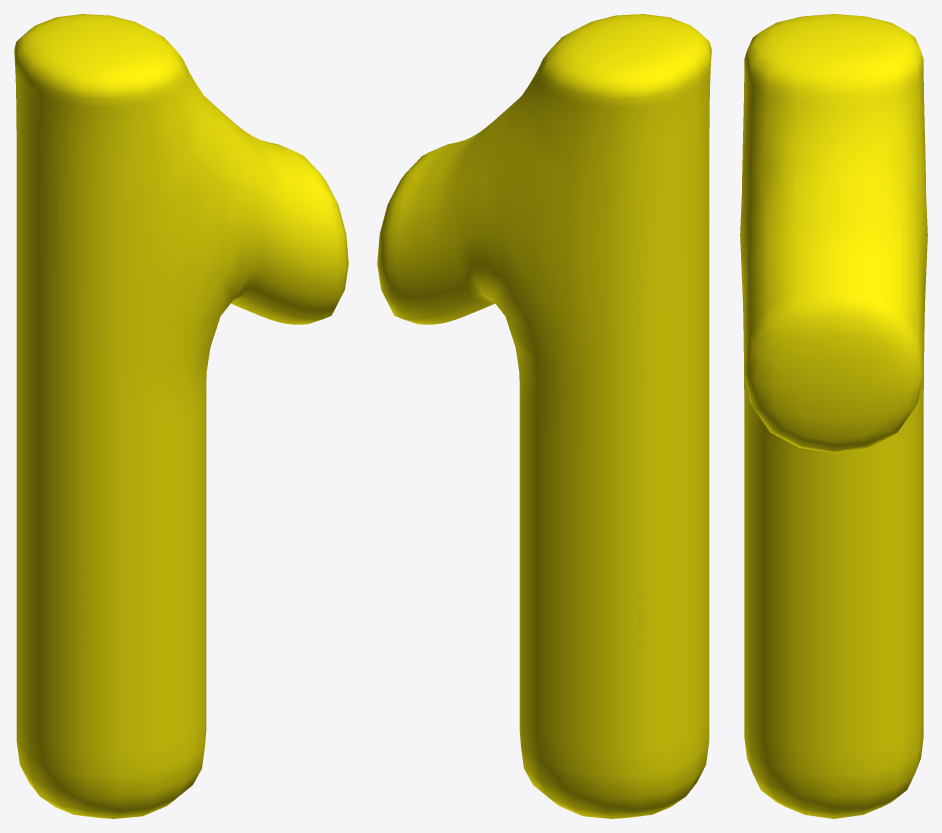
File: numero-1.glb
The picture shows the model from 3 angles, left to right: view 1: azimuth 30°, elevation 25°; view 2: azimuth 150°, elevation 25°; view 3: azimuth 270°, elevation 25°; orthographic projection.
Visible parts, largest first — view 1: node_id38; view 2: node_id38; view 3: node_id38.
Boxes of the visible parts, box(x1,y1,x2,y2) form: node_id38: box(14, 14, 348, 818); node_id38: box(377, 14, 711, 818); node_id38: box(740, 14, 927, 818).
Size of the model in its own units: 0.202 by 0.512 by 0.1142.
Materials: 1 (1 with a texture image).
